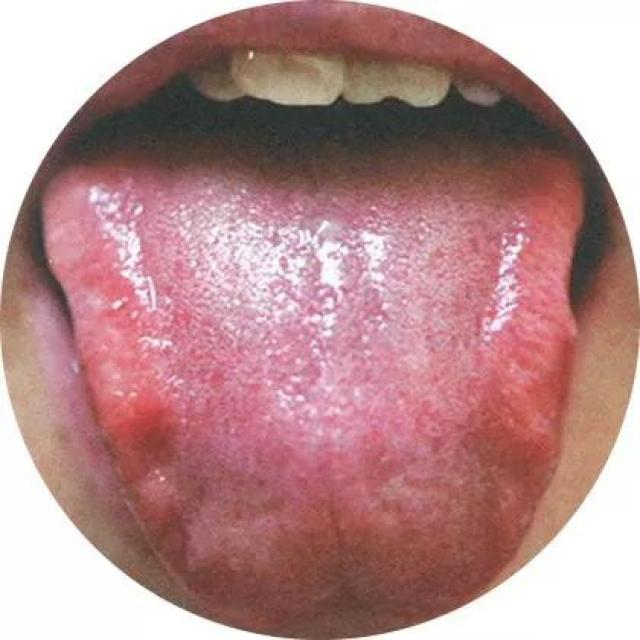tongue: (37, 138, 590, 612)
